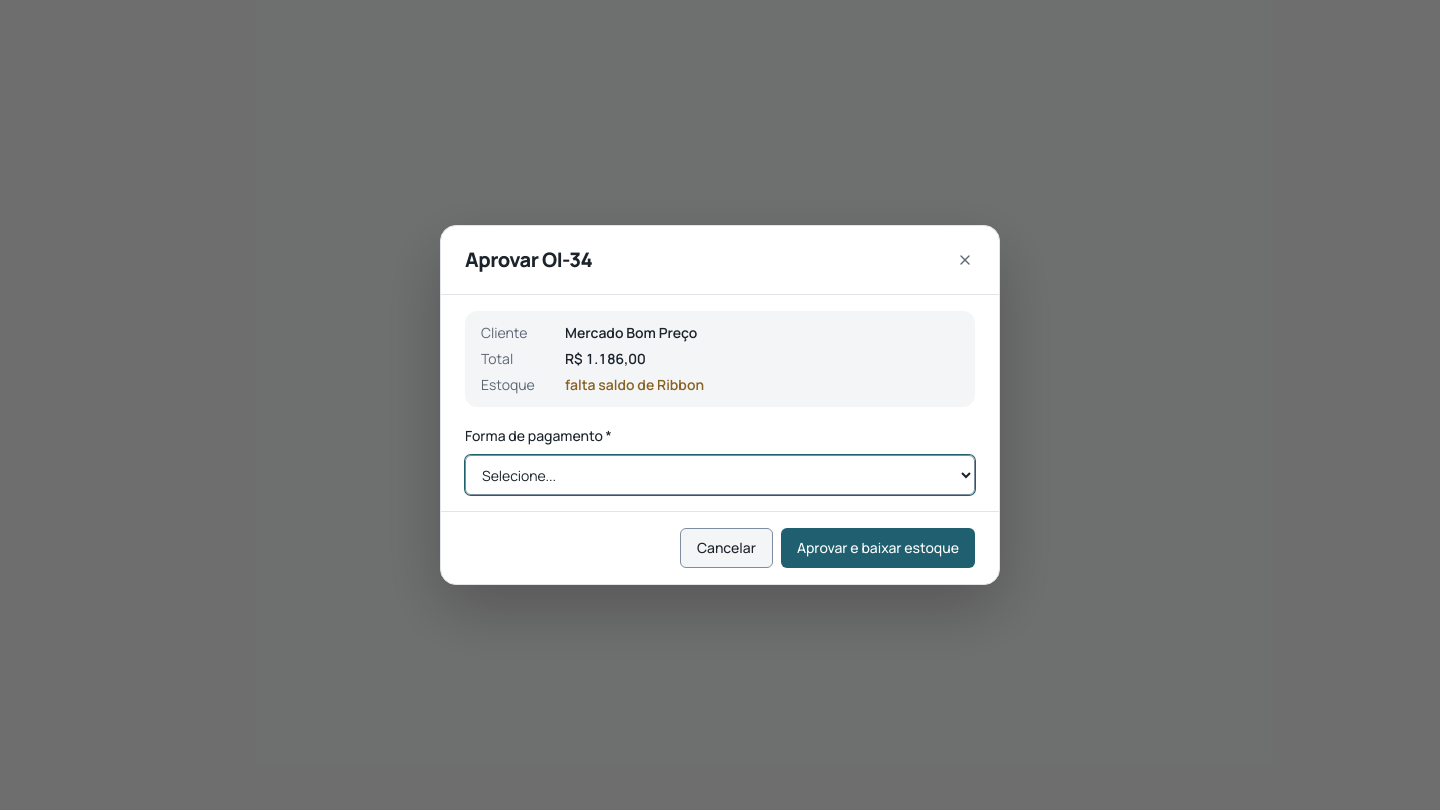
it: AcaoVendaDialog: revisão › recusa por falta com dois itens de mesmo nome não oferece Dar entrada
expect the heading "Aprovar OI-34" is shown: met, box [465,246,592,273]
Select "PIX" in the dropdown labelled "Forma de pagamento" at (720, 475), box [465,455,975,495]
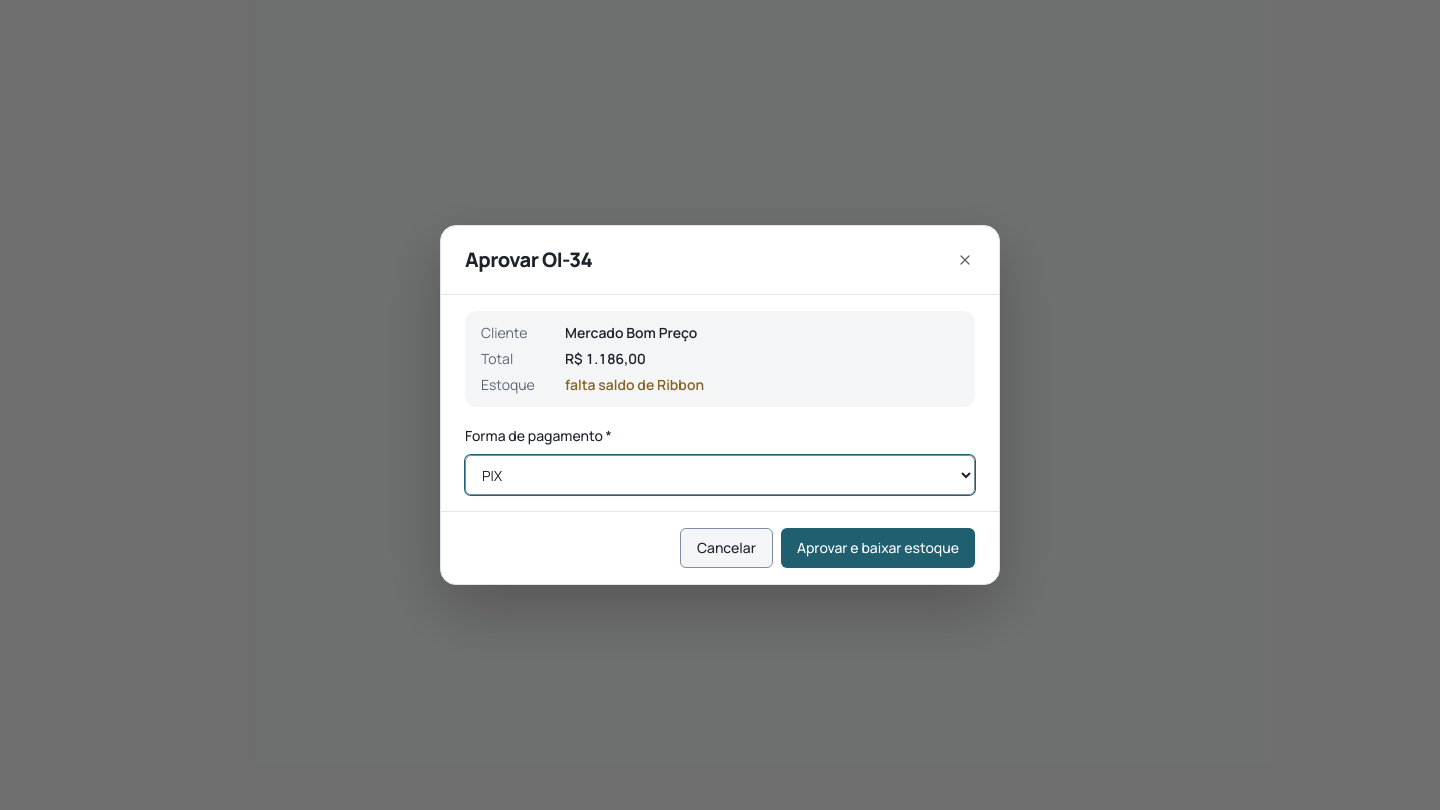
Click the button "Aprovar e baixar estoque" at (878, 548), box [781,528,975,568]
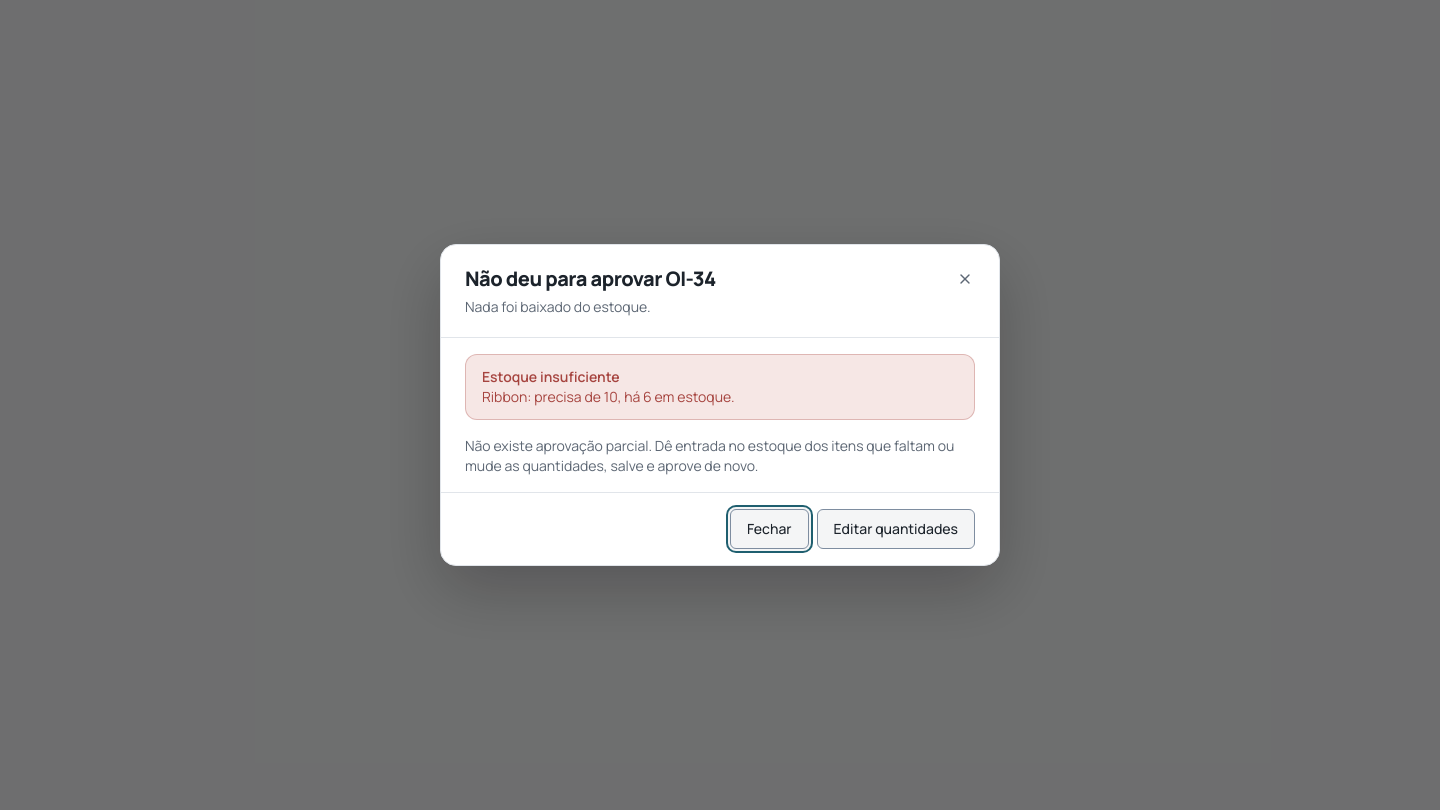
expect the heading "Não deu para aprovar OI-34" is shown: met, box [465,265,716,292]
expect the button "Editar quantidades" is shown: met, box [816,509,975,549]
